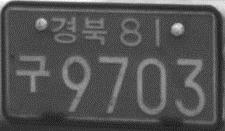0: (134, 58, 167, 115)
1: (149, 17, 165, 47)
3: (174, 55, 207, 119)
7: (96, 53, 131, 115)
8: (118, 16, 143, 49)
9: (59, 54, 92, 116)
경북_O: (48, 15, 109, 47)
구: (13, 53, 51, 94)
